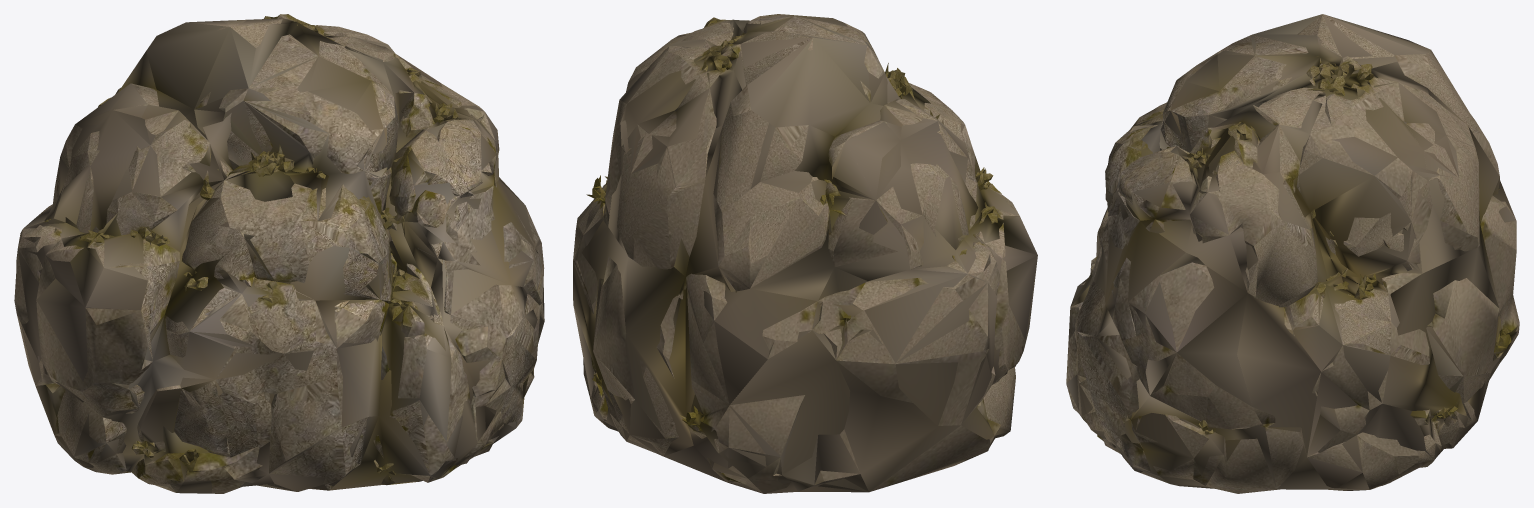
Rendered from risco_grietas.glb.
3 views of the same model, side by side, from view 1: azimuth 30°, elevation 25°; view 2: azimuth 150°, elevation 25°; view 3: azimuth 270°, elevation 25° (orthographic). The views are drawn at different scales.
Parts seen in each view (by area): view 1: cerca, medio, lejos; view 2: cerca, lejos, medio; view 3: cerca, medio, lejos.
Part boxes in pixels (box(x1,y1,x2,y2)): cerca: box(14, 14, 544, 493); medio: box(19, 16, 544, 493); lejos: box(16, 18, 534, 490); cerca: box(573, 14, 1037, 493); lejos: box(573, 19, 1037, 492); medio: box(582, 14, 1037, 493); cerca: box(1066, 14, 1519, 493); medio: box(1066, 14, 1517, 489); lejos: box(1071, 14, 1515, 489).
Bounding box in the file's own units: 4.67 × 4 × 4.25.
2 materials, 1 textured.
